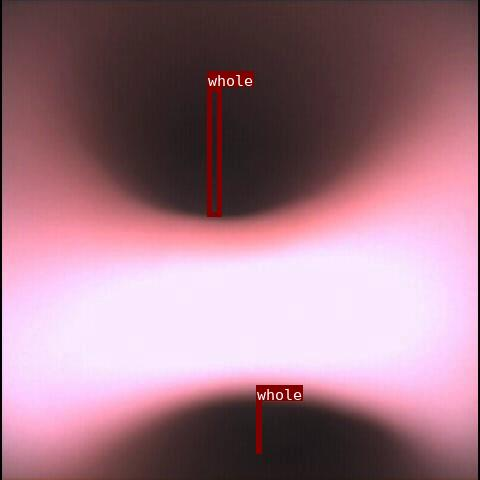whole: (207, 87, 221, 216), (256, 401, 261, 453)
